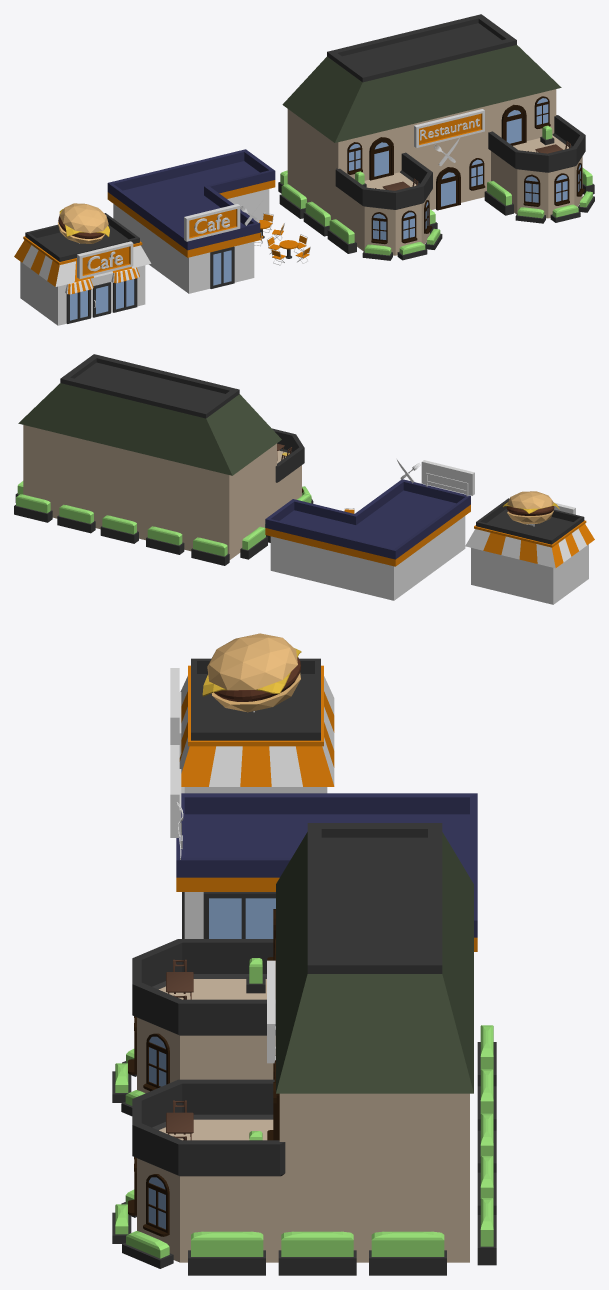
Rendered from fastfood.fbx.
The picture shows the model from 3 angles, top to bottom: view 1: azimuth 30°, elevation 25°; view 2: azimuth 150°, elevation 25°; view 3: azimuth 270°, elevation 25°; orthographic projection. The views are drawn at different scales.
Parts seen in each view (by area): view 1: Cube, cafe_tier2, cafe_tier1; view 2: Cube, cafe_tier2, cafe_tier1; view 3: Cube, cafe_tier2, cafe_tier1.
Boxes of the visible parts, bbox=[...] form: Cube: bbox=[278, 14, 594, 260]; cafe_tier2: bbox=[107, 149, 310, 293]; cafe_tier1: bbox=[14, 203, 151, 325]; Cube: bbox=[14, 354, 313, 565]; cafe_tier2: bbox=[265, 459, 474, 600]; cafe_tier1: bbox=[465, 491, 594, 604]; Cube: bbox=[112, 823, 496, 1275]; cafe_tier2: bbox=[170, 745, 477, 951]; cafe_tier1: bbox=[170, 633, 334, 793].
Size of the model in its own units: 2485 by 622 by 808.
